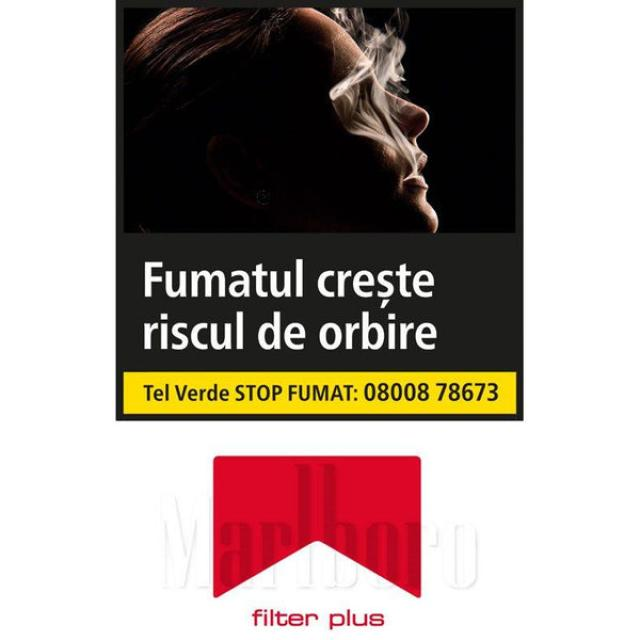marlboro: (112, 0, 524, 640)
